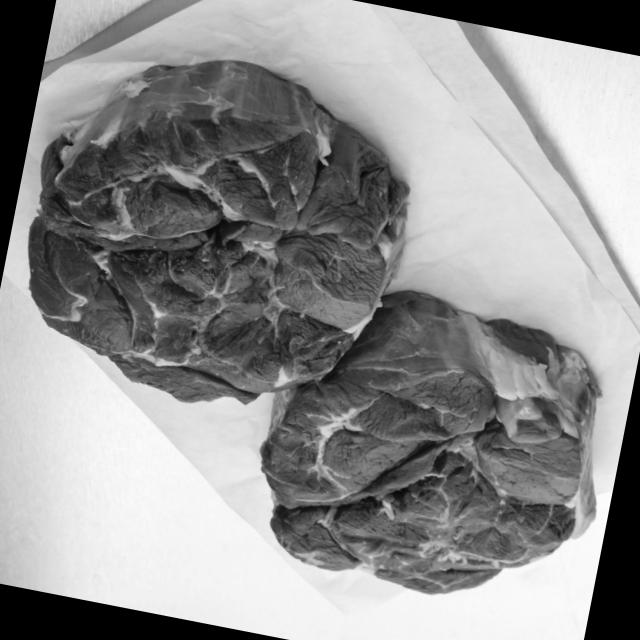chan gio: (1, 34, 427, 435), (247, 284, 627, 623)
